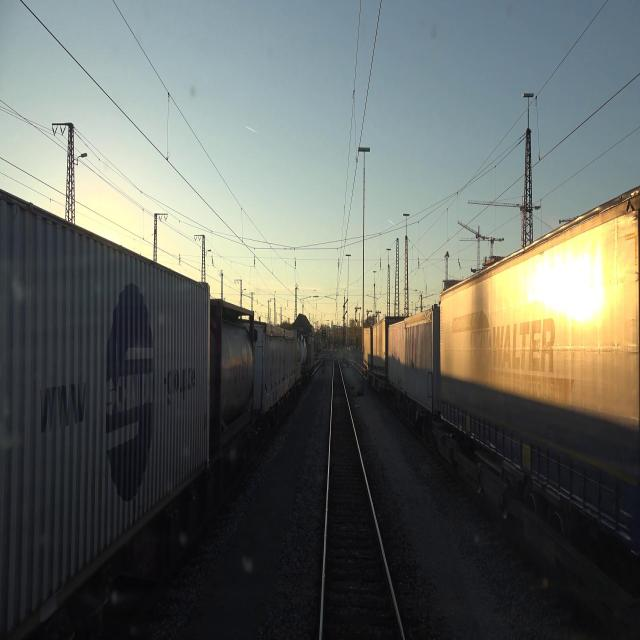rail-track: (323, 359, 400, 639)
